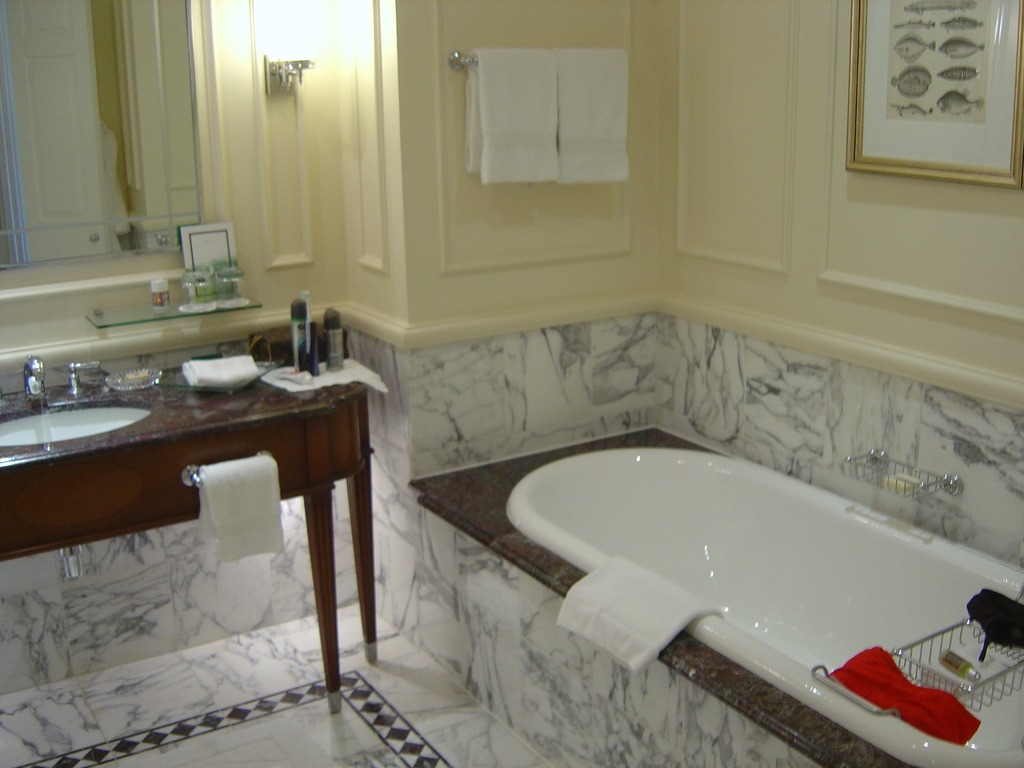tap: (22, 352, 48, 404)
